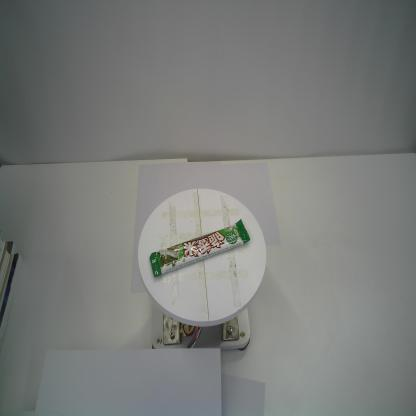Chocolate: (148, 219, 252, 278)
